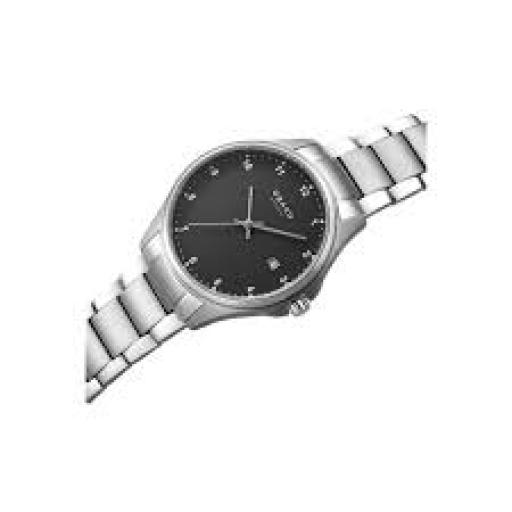KolSaati: (25, 51, 493, 441)
